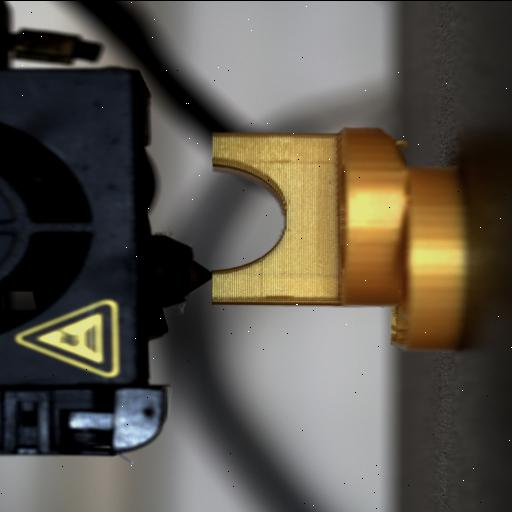layer_shift: (382, 131, 418, 355)
